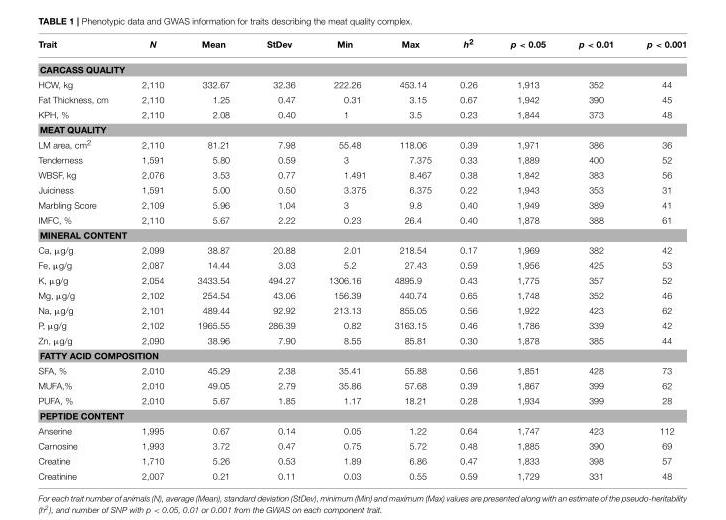table: (37, 37, 686, 480)
table column: (37, 37, 124, 480), (311, 37, 379, 480), (493, 37, 561, 480), (561, 37, 629, 480), (180, 37, 247, 480), (379, 37, 445, 480), (247, 37, 311, 480), (629, 37, 686, 480), (124, 37, 180, 480), (445, 37, 493, 480)
table column header: (37, 37, 686, 56)
table projected row header: (37, 56, 686, 77), (37, 227, 686, 242), (37, 348, 686, 363), (37, 408, 686, 423), (37, 122, 686, 136)
table row: (37, 56, 686, 77), (37, 37, 686, 56), (37, 136, 686, 152), (37, 317, 686, 333), (37, 77, 686, 92), (37, 92, 686, 107), (37, 107, 686, 122), (37, 152, 686, 167), (37, 167, 686, 182), (37, 182, 686, 197), (37, 197, 686, 212), (37, 212, 686, 227), (37, 227, 686, 242), (37, 242, 686, 257), (37, 257, 686, 272), (37, 272, 686, 287), (37, 287, 686, 302), (37, 302, 686, 317), (37, 333, 686, 348), (37, 348, 686, 363), (37, 363, 686, 378), (37, 378, 686, 393), (37, 393, 686, 408), (37, 408, 686, 423), (37, 423, 686, 438), (37, 438, 686, 453), (37, 453, 686, 468), (37, 122, 686, 136), (37, 468, 686, 480)
